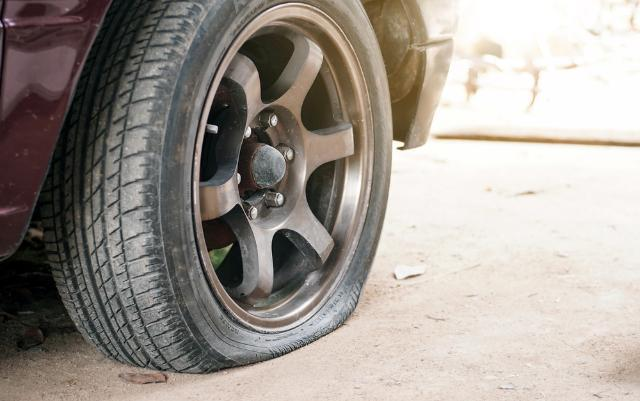tire flat: (38, 0, 393, 375)
